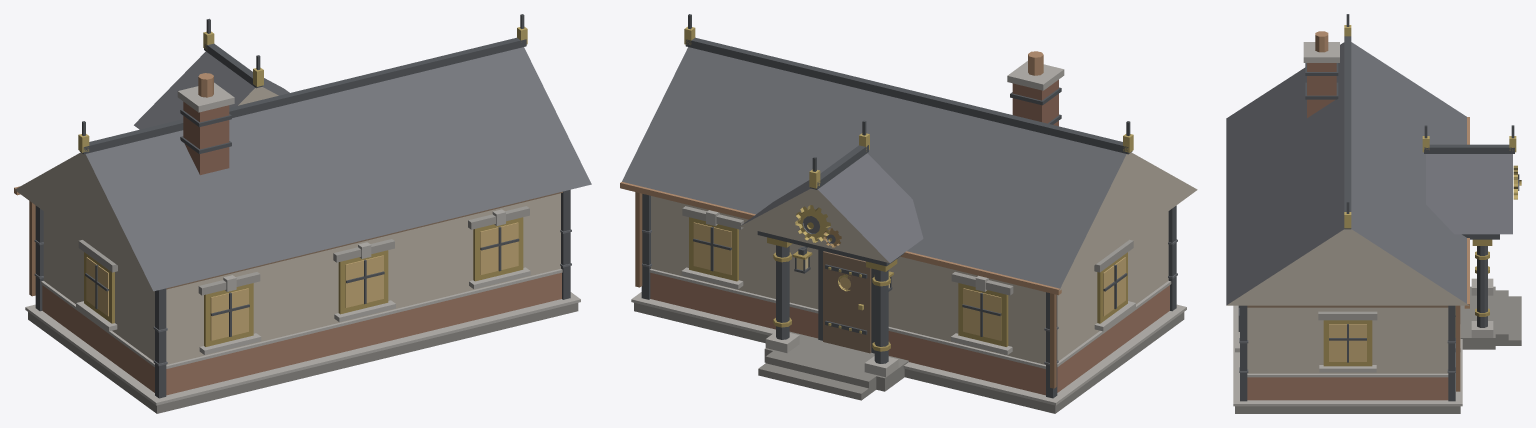
The model's file is casa-n02-d4e4ce0d.glb.
The picture shows the model from 3 angles, left to right: view 1: azimuth 30°, elevation 25°; view 2: azimuth 150°, elevation 25°; view 3: azimuth 270°, elevation 25°; orthographic projection. The views are drawn at different scales.
Visible parts, largest first — view 1: casa_n02, casa_n02_glow; view 2: casa_n02, casa_n02_glow; view 3: casa_n02, casa_n02_glow.
Part boxes in pixels (box(x1,y1,x2,y2)): casa_n02: box(14, 14, 591, 413); casa_n02_glow: box(86, 222, 518, 340); casa_n02: box(620, 14, 1197, 413); casa_n02_glow: box(693, 222, 1125, 340); casa_n02: box(1226, 14, 1521, 413); casa_n02_glow: box(1329, 306, 1455, 361).
Bounding box in the file's own units: 10.36 × 6.16 × 6.8.
